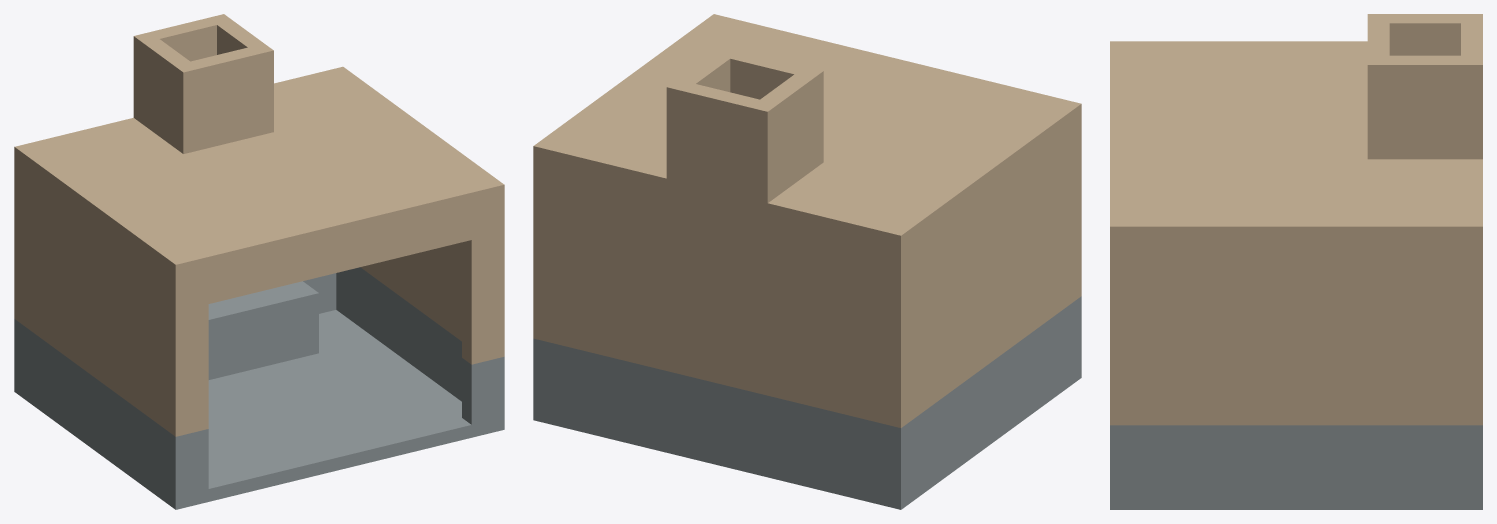
3 views of the same model, side by side, from view 1: azimuth 30°, elevation 25°; view 2: azimuth 150°, elevation 25°; view 3: azimuth 270°, elevation 25° (orthographic). The views are drawn at different scales.
Parts seen in each view (by area): view 1: WholeIntegralHearthWorkshopSpace; view 2: WholeIntegralHearthWorkshopSpace; view 3: WholeIntegralHearthWorkshopSpace.
Boxes of the visible parts, left/top/right/bottom form: WholeIntegralHearthWorkshopSpace: left=14, top=14, right=504, bottom=509; WholeIntegralHearthWorkshopSpace: left=533, top=14, right=1081, bottom=509; WholeIntegralHearthWorkshopSpace: left=1110, top=14, right=1482, bottom=509.
Bounding box in the file's own units: 4 × 3.8 × 3.4.
